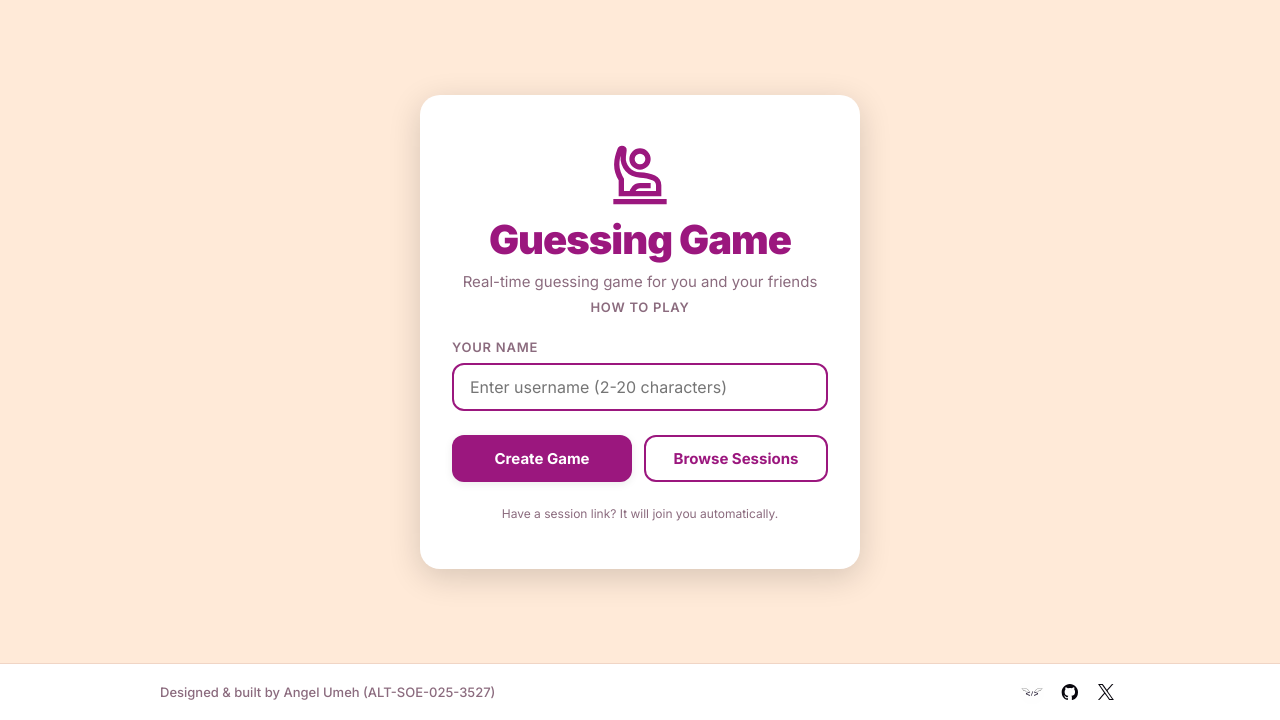
Test case: HomePage › shows error when username is too short on Browse Sessions click
Type "x" into the field with placeholder "Enter username (2-20 characters)" at (640, 386), box [452,362,828,410]
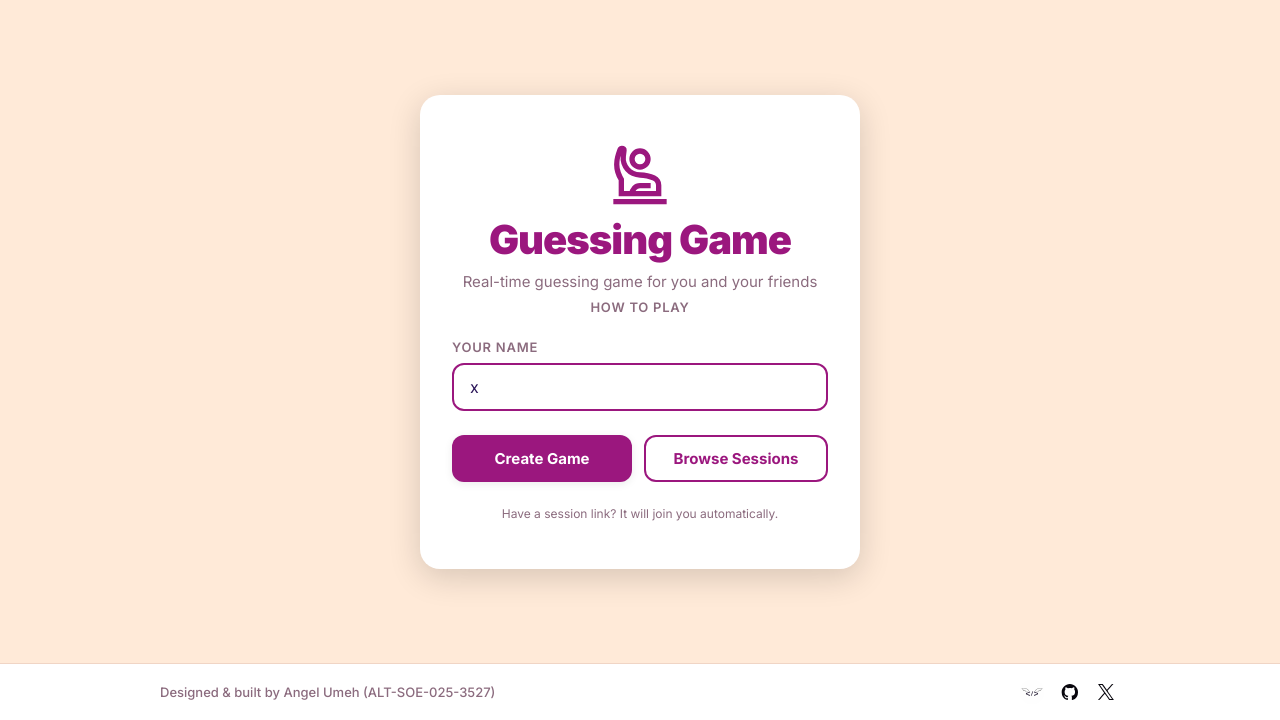
Click the button "Browse Sessions" at (736, 458), box [644,434,828,482]
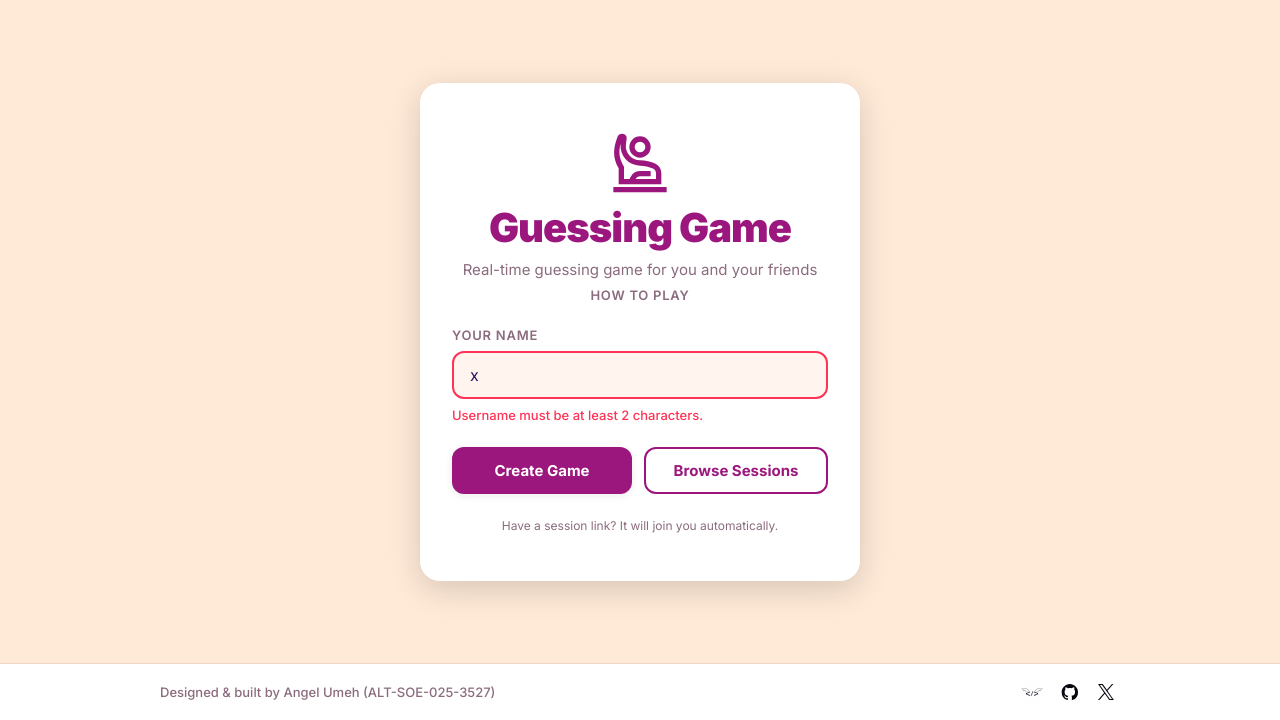
Expected: the text "Username must be at least 2 characters." is shown, [452,406,703,422]
